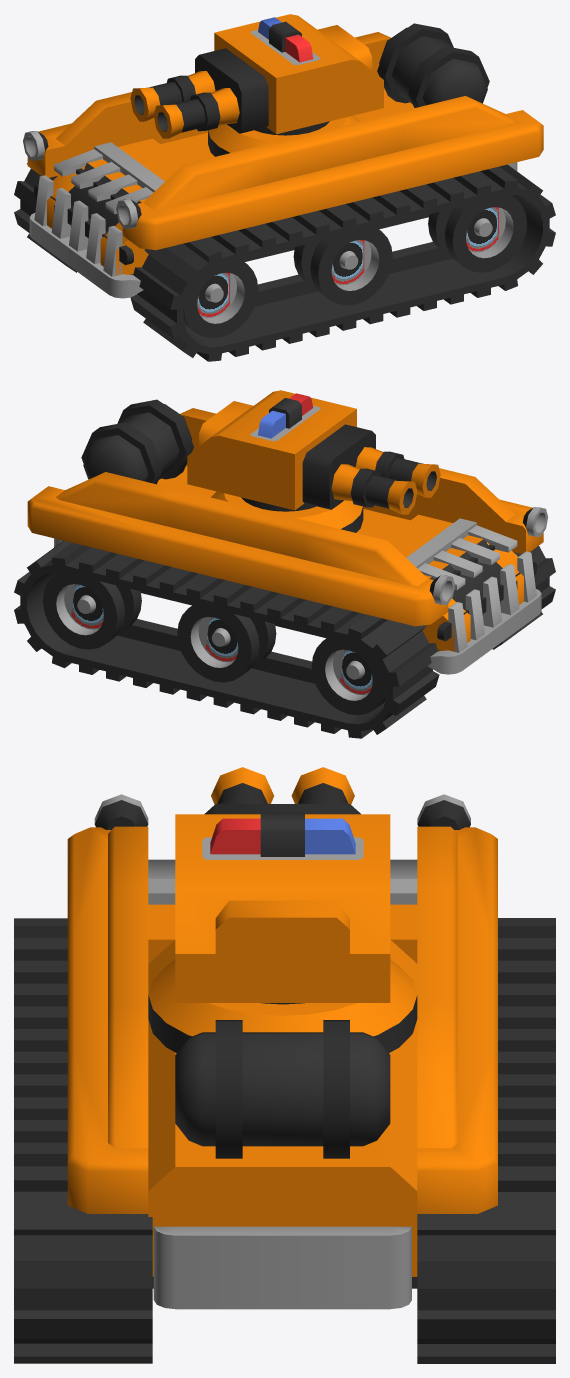
File: tank.glb
The picture shows the model from 3 angles, top to bottom: view 1: azimuth 30°, elevation 25°; view 2: azimuth 150°, elevation 25°; view 3: azimuth 270°, elevation 25°; orthographic projection. The views are drawn at different scales.
Parts seen in each view (by area): view 1: tank_skirtEdge (×4), track_wideSide (×3), wheel_tank (×3), tank_turretBlock, tank_skirt, bumper_grill (×2), track_wideCenter, tank_turretBarrelLargeDouble, detail_tank, body_frontTank, tank_turretRing, body_topBackCargo (×2) (+2 smaller); view 2: tank_skirtEdge (×4), track_wideSide (×3), wheel_tank (×3), tank_turretBlock, tank_skirt, track_wideCenter, bumper_grill (×2), tank_turretBarrelLargeDouble, detail_tank, body_frontTank, tank_turretRing, body_topBackCargo (×2) (+2 smaller); view 3: track_wideSide (×4), tank_skirtEdge (×4), tank_turretBlock, body_topBackCargo (×2), detail_tank, bumper, tank_skirt (×2), track_wideCenter (×2), tank_turretRing, detail_sirenDouble, tank_turretBarrelLargeDouble, detail_light (×2) (+2 smaller).
Boxes of the visible parts, <box> form: tank_skirtEdge (×4): <box>27,32,543,250</box>; track_wideSide (×3): <box>14,163,555,361</box>; wheel_tank (×3): <box>183,195,526,338</box>; tank_turretBlock: <box>203,14,383,134</box>; tank_skirt: <box>257,114,414,219</box>; bumper_grill (×2): <box>29,142,164,298</box>; track_wideCenter: <box>258,187,430,342</box>; tank_turretBarrelLargeDouble: <box>130,48,268,138</box>; detail_tank: <box>377,23,489,107</box>; body_frontTank: <box>47,138,186,275</box>; tank_turretRing: <box>208,115,359,156</box>; body_topBackCargo (×2): <box>161,89,429,261</box>; tank_skirtEdge (×4): <box>27,408,543,626</box>; track_wideSide (×3): <box>14,540,555,738</box>; wheel_tank (×3): <box>43,572,386,715</box>; tank_turretBlock: <box>187,390,368,510</box>; tank_skirt: <box>156,490,313,595</box>; track_wideCenter: <box>139,563,311,719</box>; bumper_grill (×2): <box>406,518,541,674</box>; tank_turretBarrelLargeDouble: <box>302,424,440,514</box>; detail_tank: <box>81,399,193,484</box>; body_frontTank: <box>384,514,523,651</box>; tank_turretRing: <box>211,491,363,532</box>; body_topBackCargo (×2): <box>140,465,410,638</box>; track_wideSide (×4): <box>14,918,555,1363</box>; tank_skirtEdge (×4): <box>67,826,497,1213</box>; tank_turretBlock: <box>175,814,390,1002</box>; body_topBackCargo (×2): <box>148,940,417,1288</box>; detail_tank: <box>175,1020,390,1158</box>; bumper: <box>153,1226,411,1309</box>; tank_skirt (×2): <box>67,889,497,1057</box>; track_wideCenter (×2): <box>14,989,555,1102</box>; tank_turretRing: <box>148,959,417,1052</box>; detail_sirenDouble: <box>202,812,363,859</box>; tank_turretBarrelLargeDouble: <box>204,767,360,814</box>; detail_light (×2): <box>94,794,470,829</box>.
Size of the model in its own units: 3.1 by 1.71 by 2.02.
Materials: 1 (1 with a texture image).
